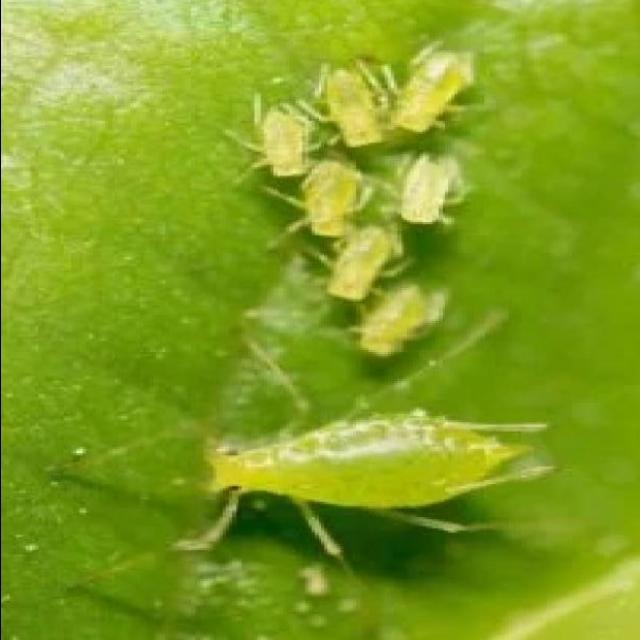Aphids: (226, 46, 504, 356), (170, 370, 558, 578)
